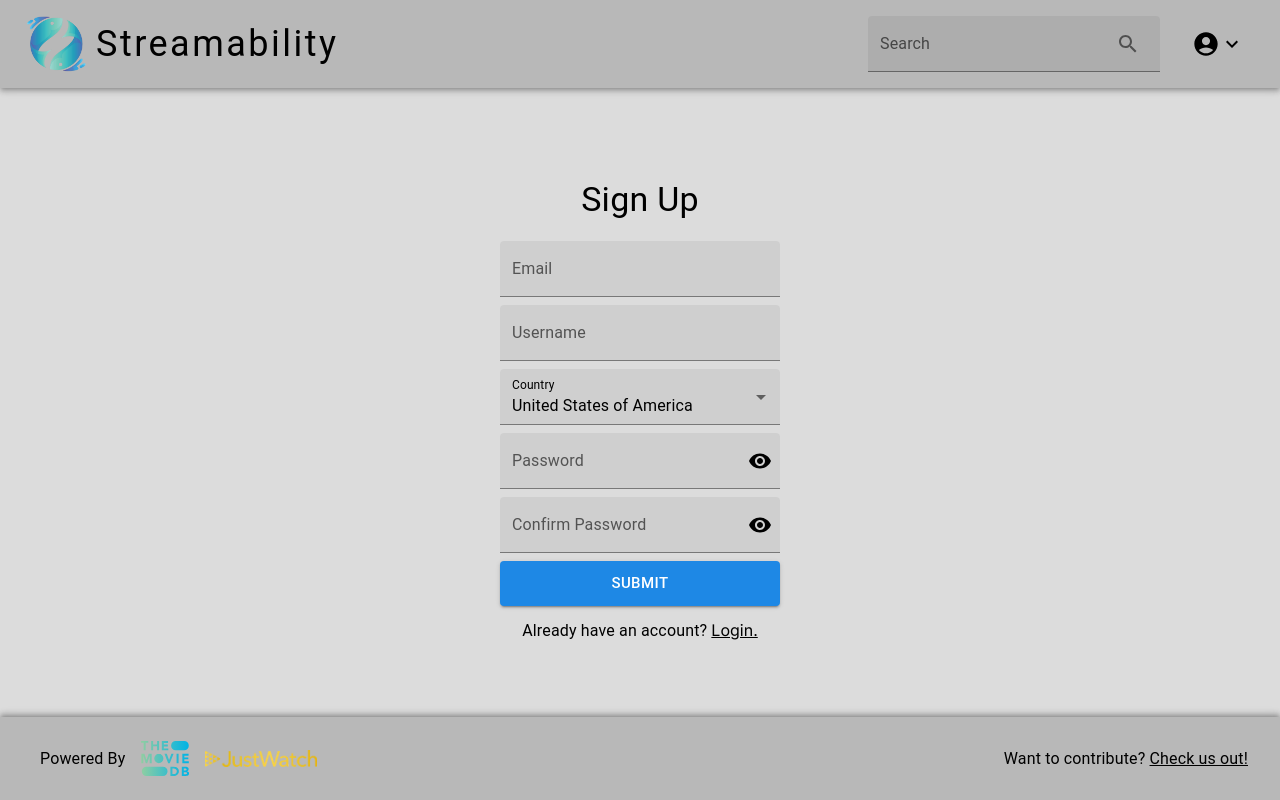
Test: Sign Up Screen › does not allow submission with all empty inputs
This screenshot has width=1280, height=800.
Check: the element with test id "signup-screen" is shown, box [496,88,784,717]
Click the button "Submit": (640, 583) [500,561,780,606]
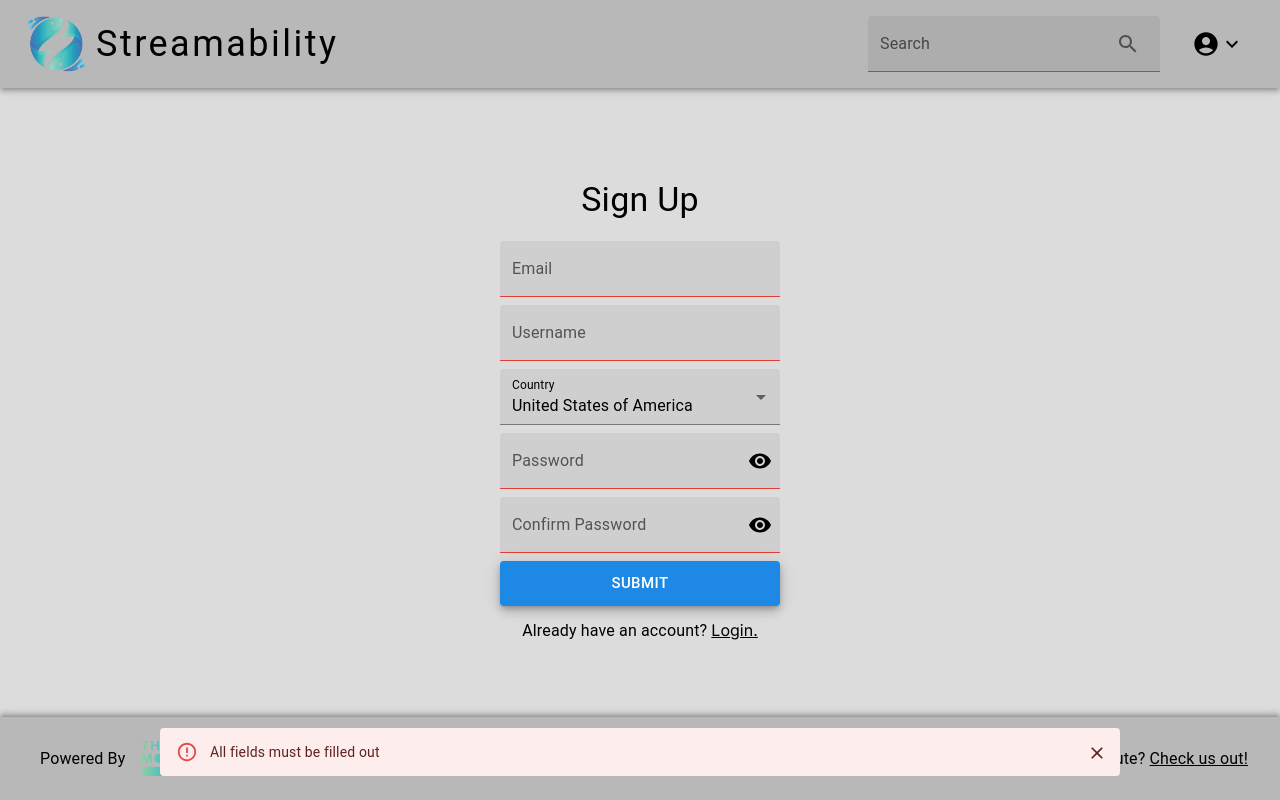
Check: the text "All fields must be filled out" is shown, box [210,744,380,760]
